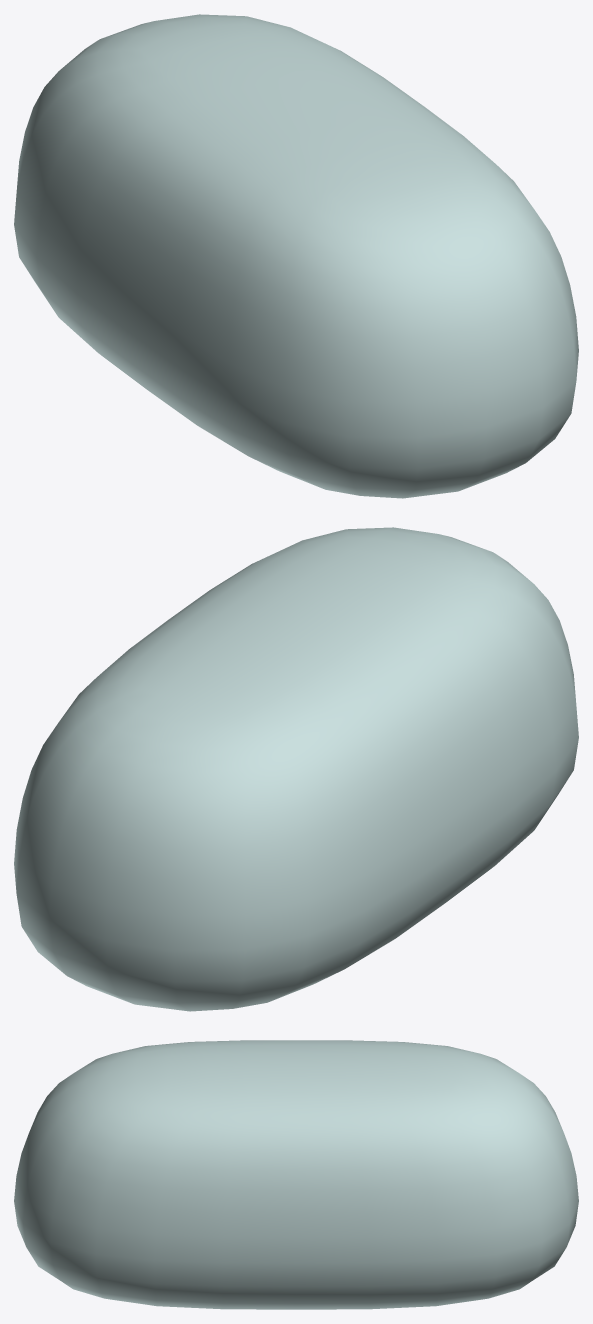
Rendered from Barrel or Twink.fbx.
3 views of the same model, one above another, from view 1: azimuth 30°, elevation 25°; view 2: azimuth 150°, elevation 25°; view 3: azimuth 270°, elevation 25° (orthographic). The views are drawn at different scales.
Parts seen in each view (by area): view 1: Cube.004; view 2: Cube.004; view 3: Cube.004.
Part boxes in pixels (x1,y1,x2,y2): Cube.004: [14, 14, 578, 498]; Cube.004: [14, 527, 578, 1011]; Cube.004: [14, 1040, 578, 1309].
Bounding box in the file's own units: 276 × 226 × 532.
